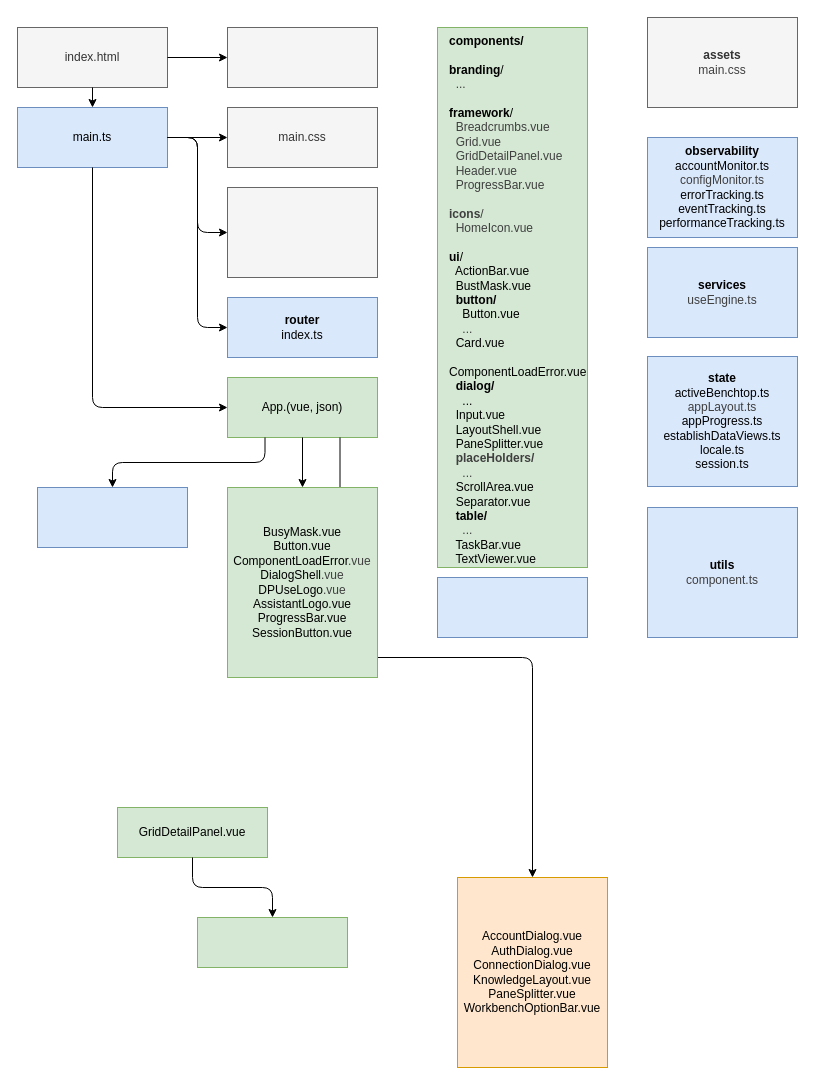
This 815x1085 diagram has some shape labels left out. The shapes that lost their labels are listed below. From the top down, each one's centre as x and y in pixels, then its label:
[302,57]: <script> appearance
[302,232]: observability errorTracking.ts hasReportedAppError reportFatalError
[112,517]: KnowledgeViewId.ts
[512,607]: composables useBreadcrumbs.ts useDataWindow.ts
[272,942]: Grid.vue
